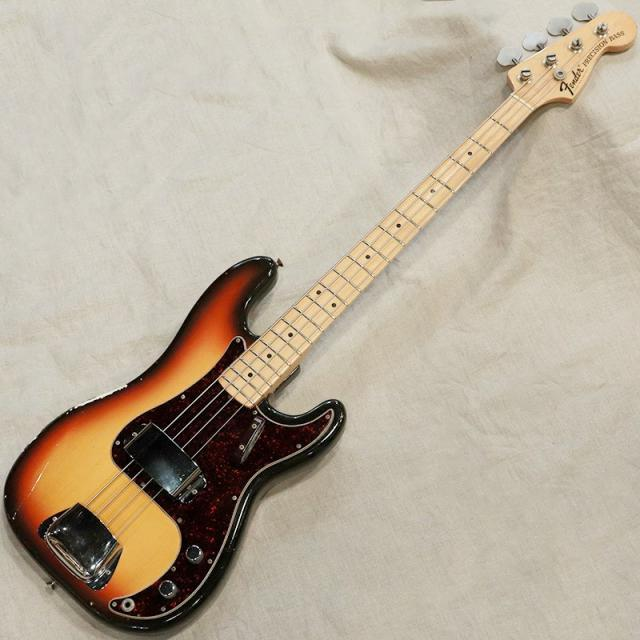bass: (5, 12, 635, 629)
